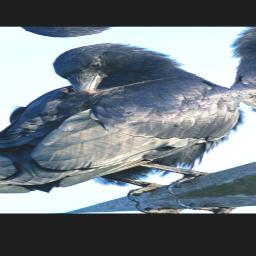Crow: (0, 31, 256, 212)
